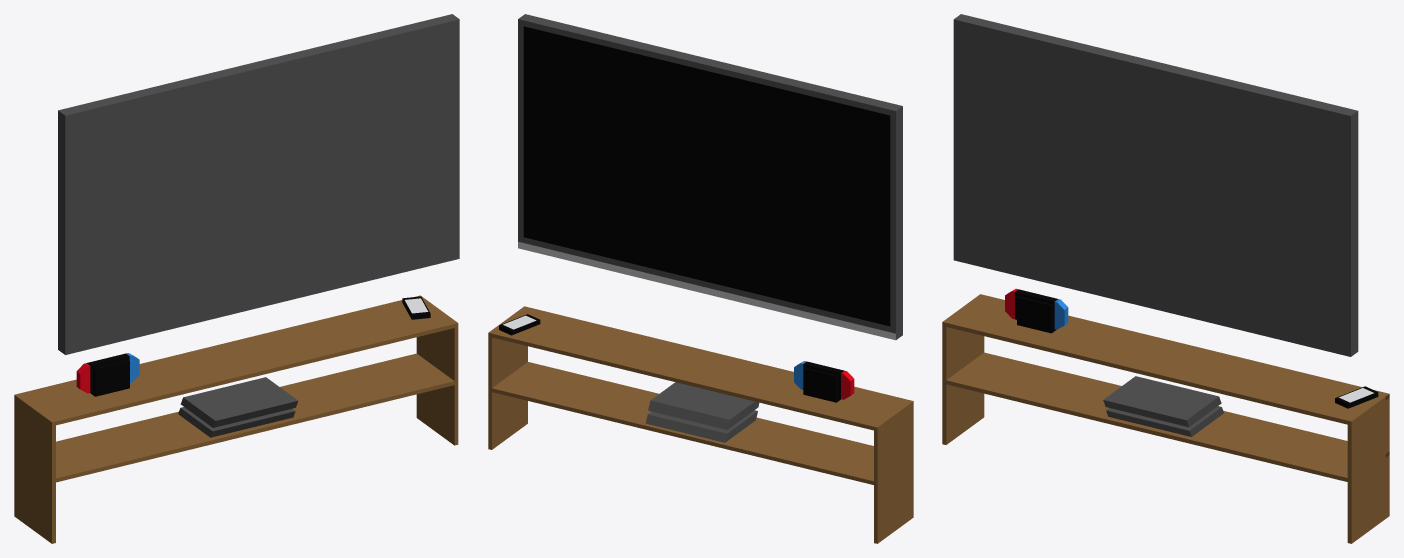
3 renders of one model, left to right at view 1: azimuth 30°, elevation 25°; view 2: azimuth 150°, elevation 25°; view 3: azimuth 330°, elevation 25°, orthographic. The views are drawn at different scales.
Parts seen in each view (by area): view 1: Plane.001, Shelf_Cube.007, Cube.031; view 2: Plane.001, Shelf_Cube.007, Cube.031, Cube.028; view 3: Plane.001, Shelf_Cube.007, Cube.031, Cube.028.
Boxes of the visible parts, <box> form: Plane.001: <box>58,14,459,354</box>; Shelf_Cube.007: <box>14,295,458,543</box>; Cube.031: <box>76,353,139,396</box>; Plane.001: <box>518,14,902,340</box>; Shelf_Cube.007: <box>488,306,913,543</box>; Cube.031: <box>794,361,854,402</box>; Cube.028: <box>499,314,540,335</box>; Plane.001: <box>953,14,1358,356</box>; Shelf_Cube.007: <box>942,294,1389,543</box>; Cube.031: <box>1005,288,1068,333</box>; Cube.028: <box>1335,386,1378,408</box>.
Size of the model in its own units: 3695 by 3697 by 627.
